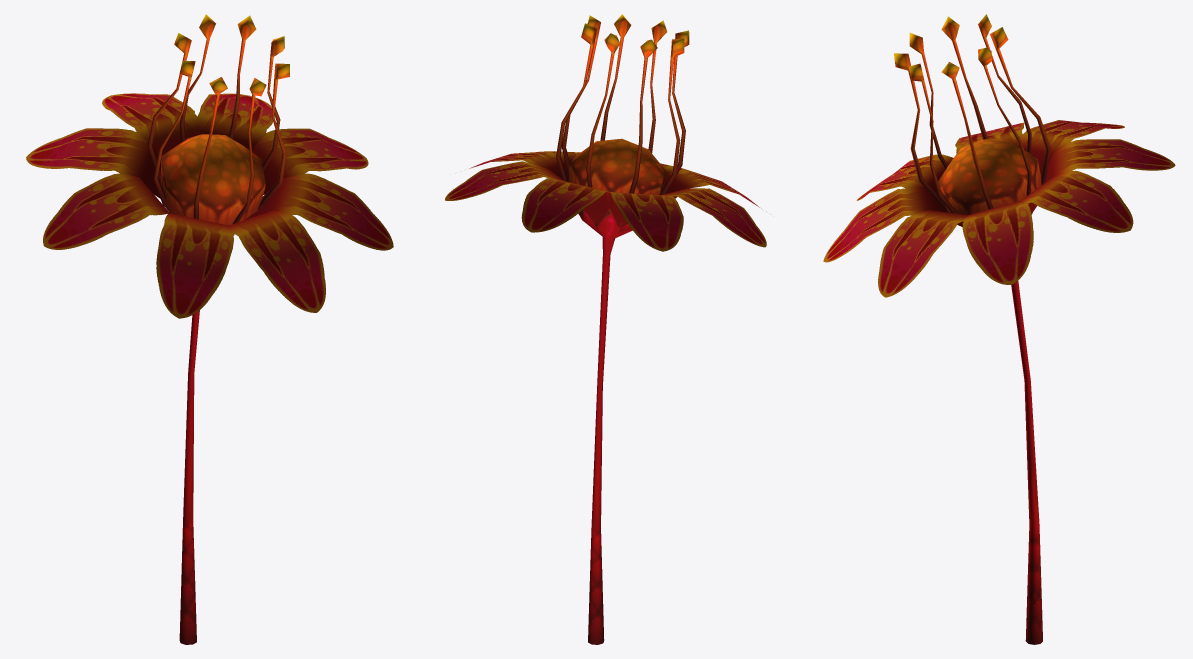
Rendered from Red_Flower_01a.FBX.
The picture shows the model from 3 angles, left to right: view 1: azimuth 30°, elevation 25°; view 2: azimuth 150°, elevation 25°; view 3: azimuth 270°, elevation 25°; orthographic projection. The views are drawn at different scales.
Visible parts, largest first — view 1: Red_Flower_01a; view 2: Red_Flower_01a; view 3: Red_Flower_01a.
Boxes of the visible parts, box(x1,y1,x2,y2) form: Red_Flower_01a: box(26, 14, 393, 644); Red_Flower_01a: box(445, 14, 766, 644); Red_Flower_01a: box(823, 14, 1175, 644).
Bounding box in the file's own units: 44.15 × 80.75 × 42.88.
